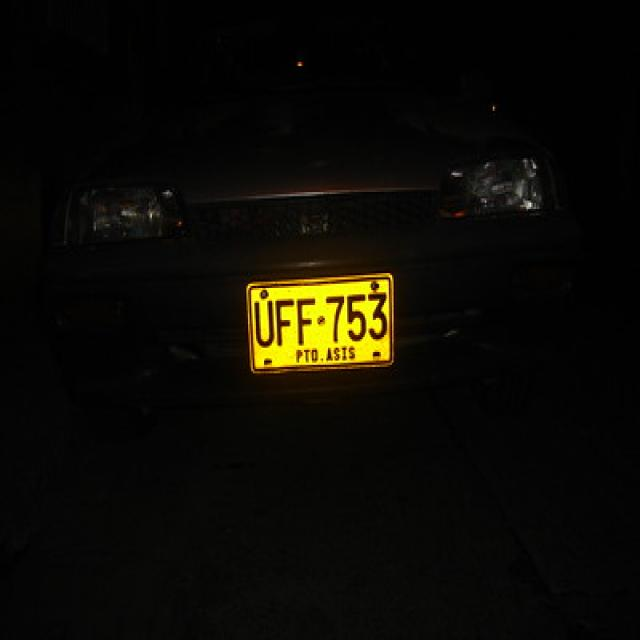placa_carro: (240, 262, 404, 387)
